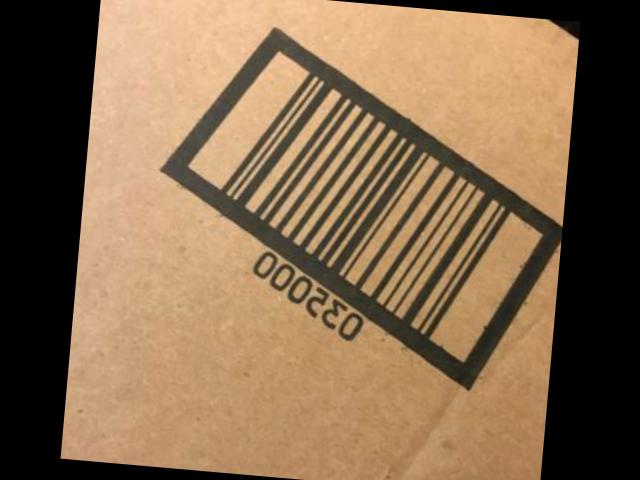cardboard paper: (60, 0, 579, 480)
